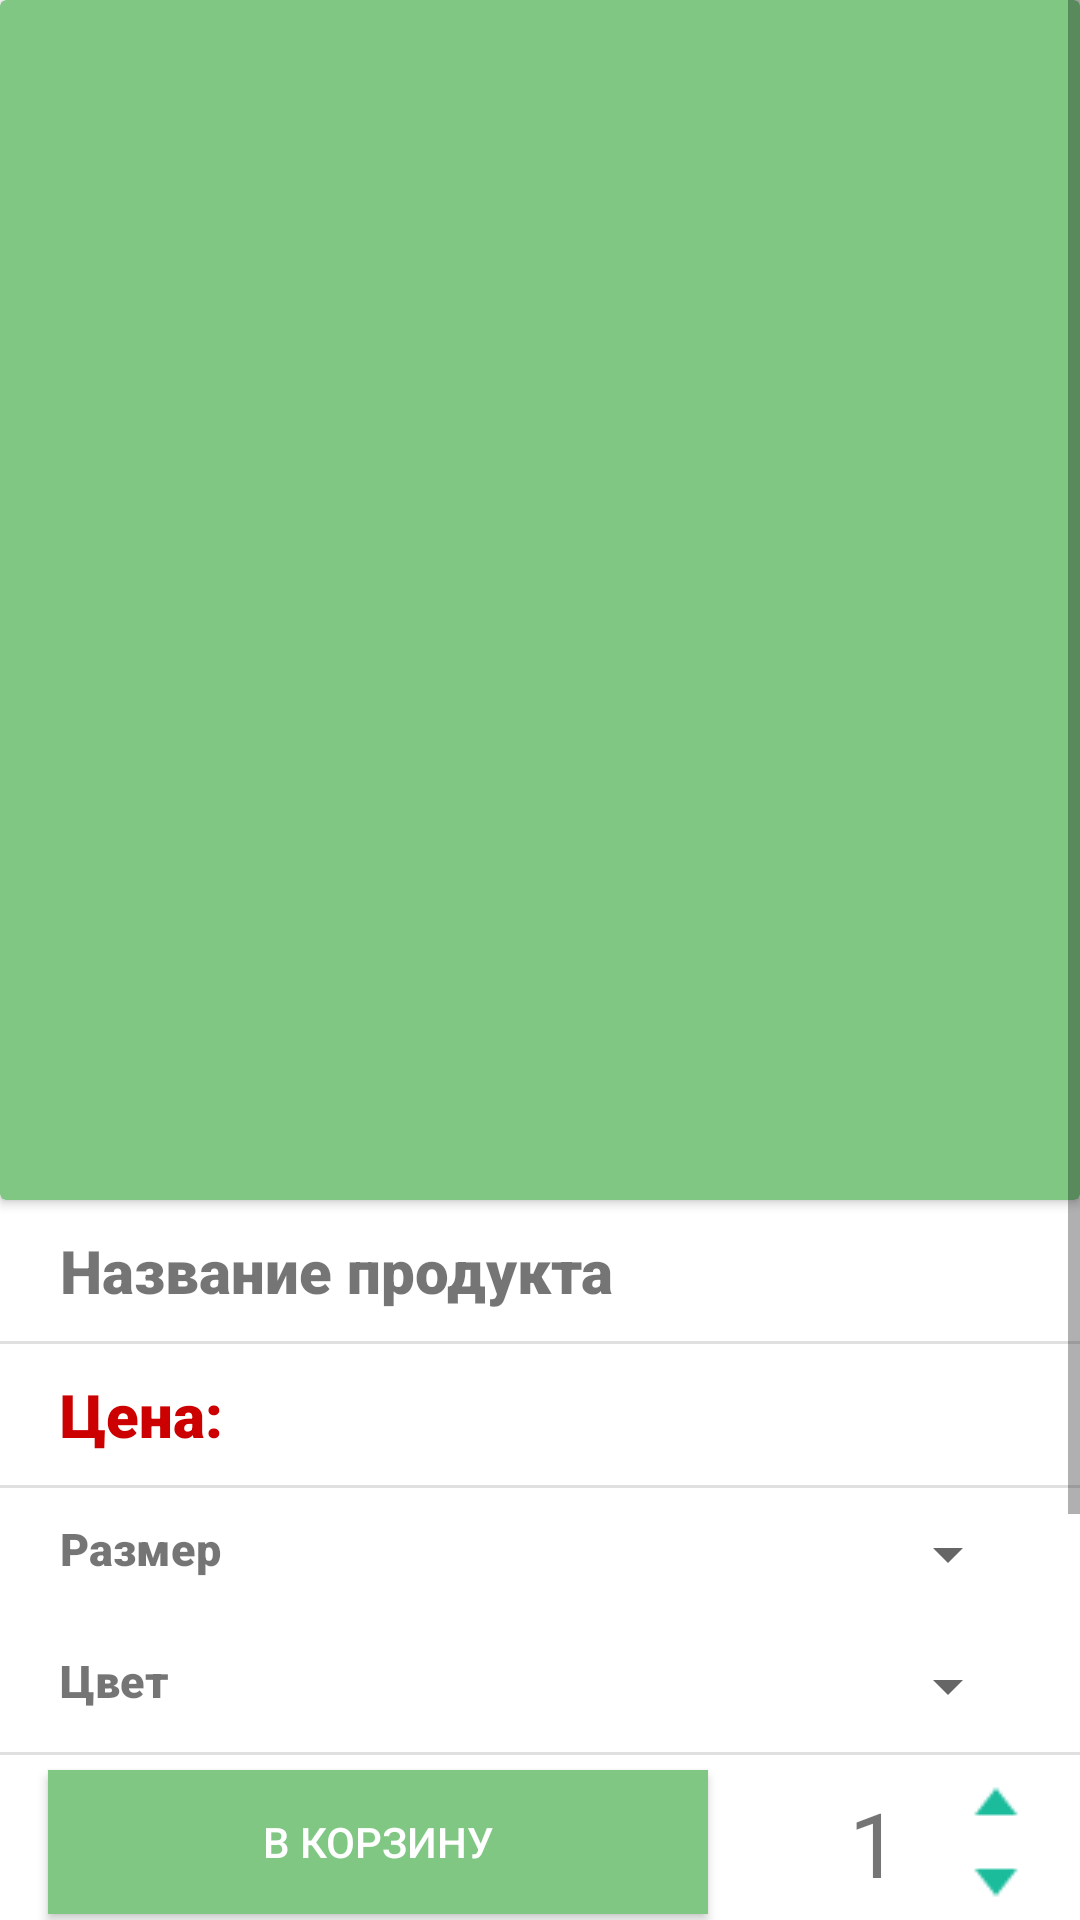

Icon bounding boxes for this 1080 × 1920 phone screenshot, format [x1, y1, x2, y2]:
sort down: [974, 1868, 1018, 1897]
sort up: [974, 1787, 1018, 1816]
